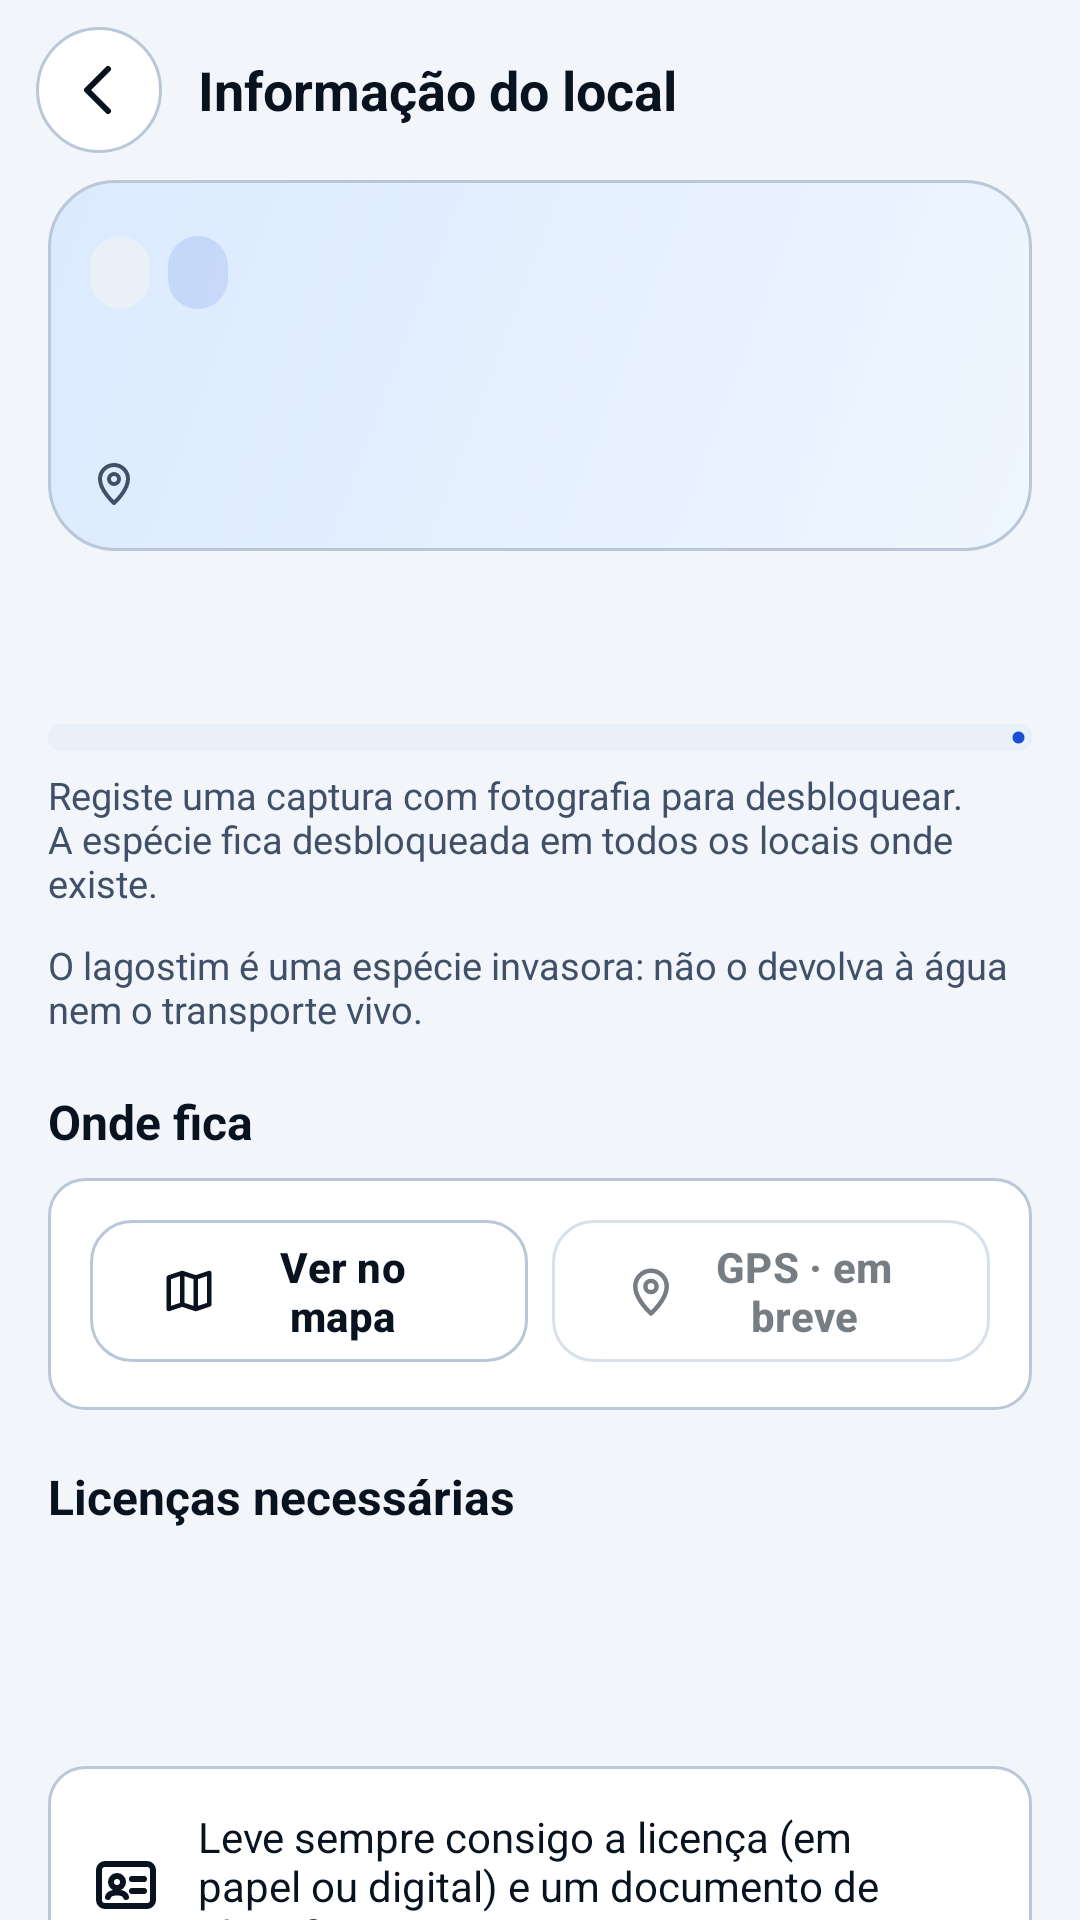

Icon bounding boxes for this 1080*1920 phone screenshot, format (x1,y1,x2,y2):
Voltar: (36,27,162,153)
